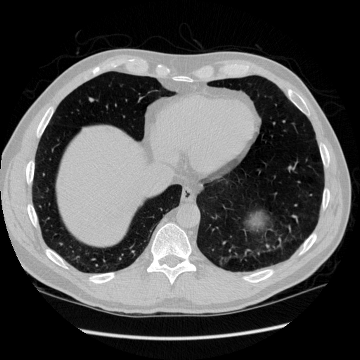nodule: (88, 96, 94, 102)
